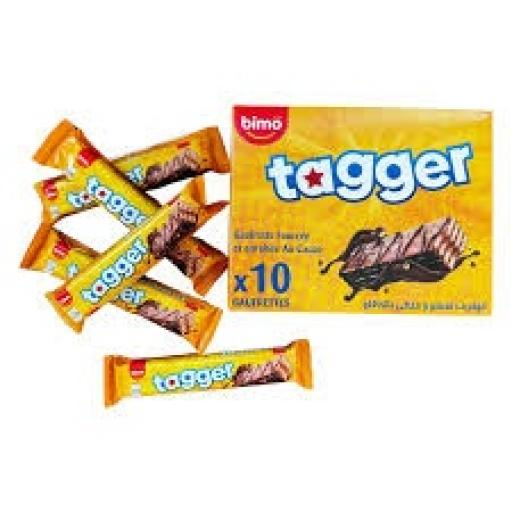tagger: (52, 116, 200, 342)
